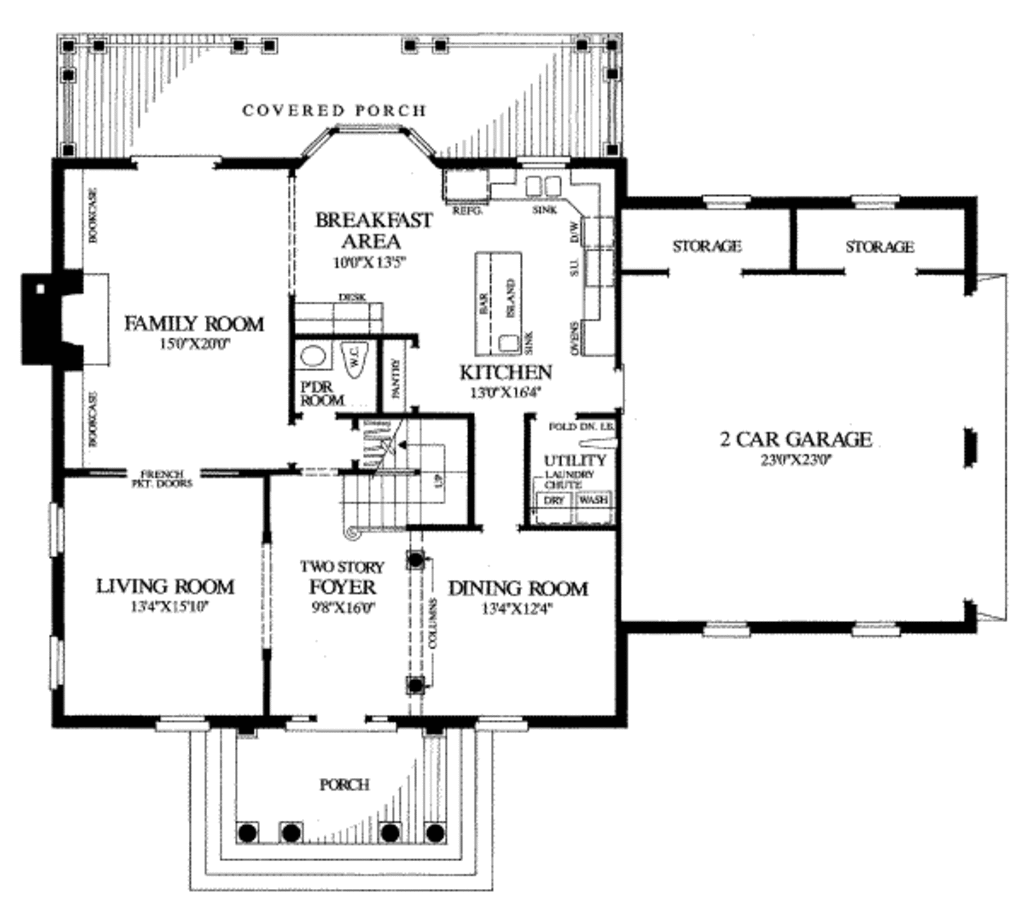kitchen_bar: (468, 246, 529, 359)
large_sink: (336, 336, 372, 382)
small_sink: (291, 336, 337, 373)
stairs: (343, 416, 480, 539)
twin_sink: (517, 172, 567, 201)
window: (304, 121, 434, 165), (283, 715, 401, 736), (47, 631, 68, 697), (46, 500, 66, 564), (846, 192, 905, 212), (152, 716, 209, 736), (470, 715, 526, 735), (851, 617, 901, 639), (702, 194, 756, 212), (701, 623, 751, 636)
